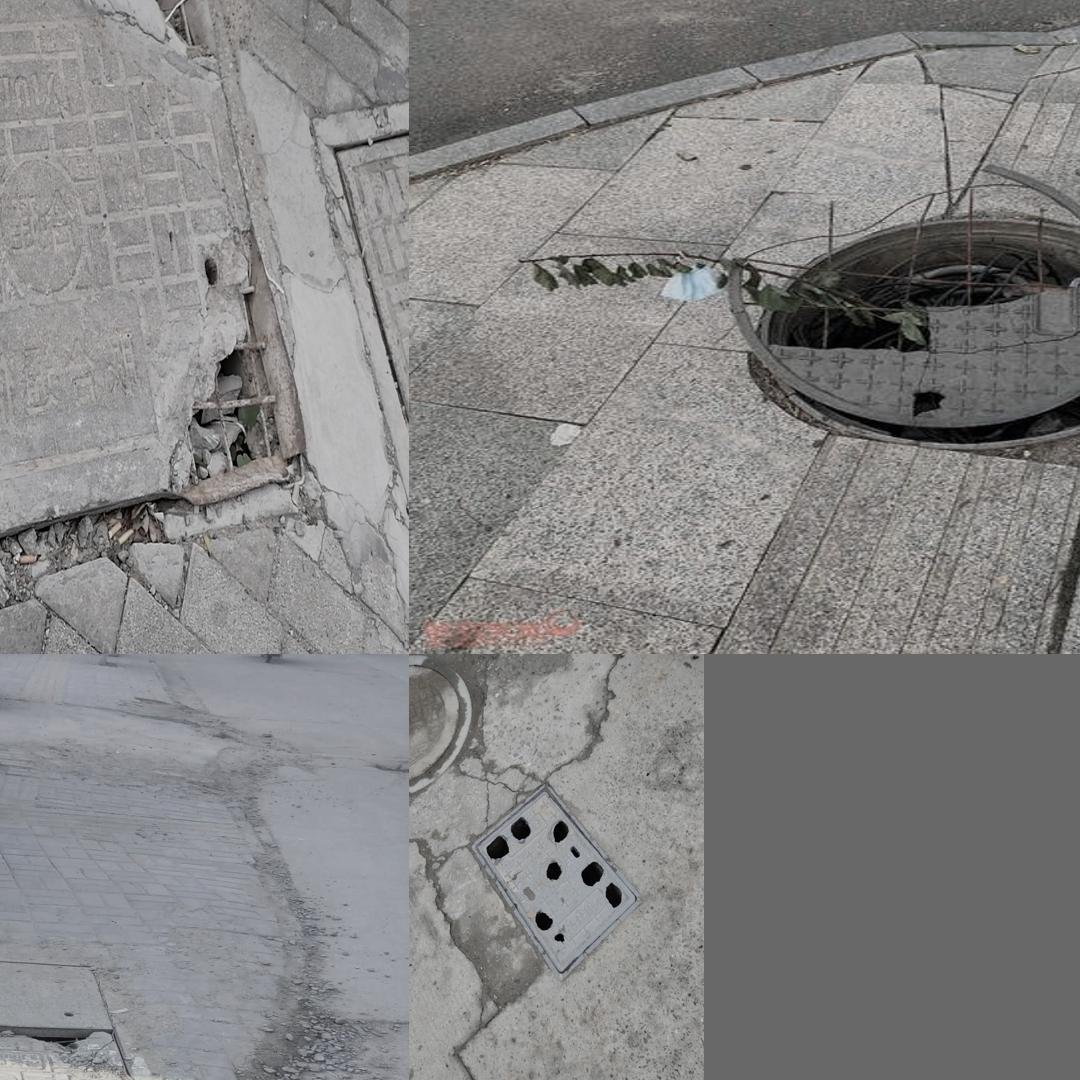broke: (0, 0, 286, 601), (699, 184, 1080, 466), (469, 783, 642, 980), (0, 959, 113, 1080)
